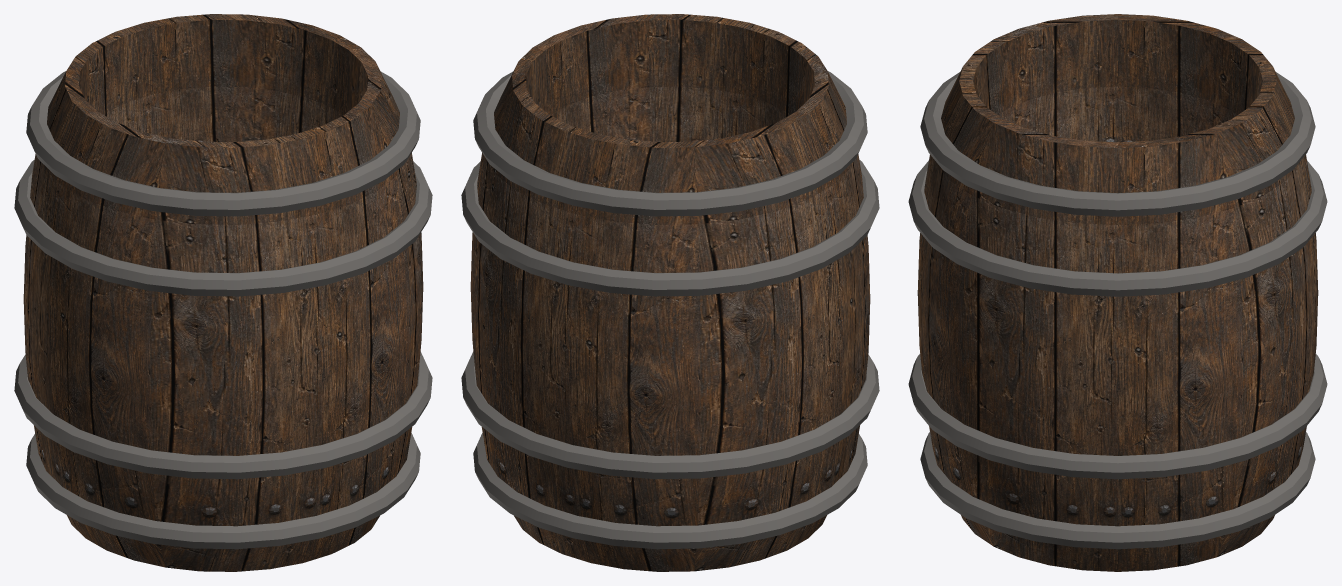
Rendered from open-barrel-v01.glb.
The picture shows the model from 3 angles, left to right: view 1: azimuth 30°, elevation 25°; view 2: azimuth 150°, elevation 25°; view 3: azimuth 270°, elevation 25°; orthographic projection.
Parts seen in each view (by area): view 1: open-barrel; view 2: open-barrel; view 3: open-barrel.
Part boxes in pixels (bbox=[...]): open-barrel: bbox=[14, 14, 432, 571]; open-barrel: bbox=[461, 14, 879, 571]; open-barrel: bbox=[908, 14, 1327, 571].
Size of the model in its own units: 1.17 by 1.3 by 1.17.
3 materials, 1 textured.
